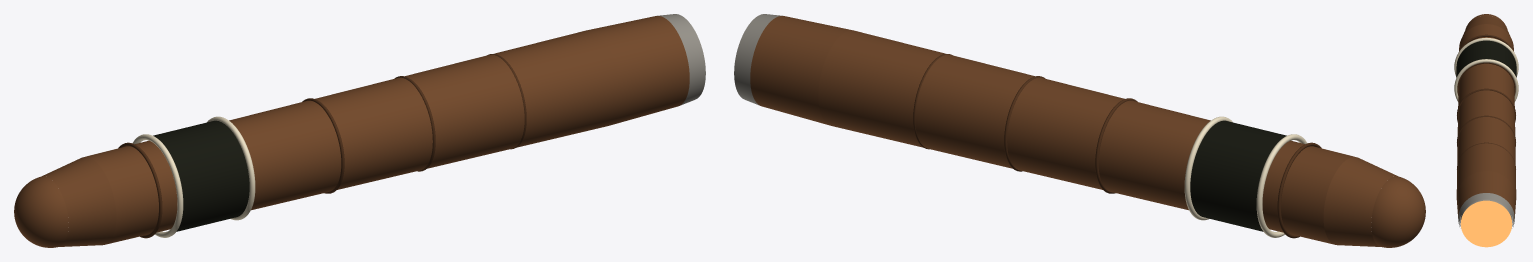
The model's file is cigar.glb.
The picture shows the model from 3 angles, left to right: view 1: azimuth 30°, elevation 25°; view 2: azimuth 150°, elevation 25°; view 3: azimuth 270°, elevation 25°; orthographic projection. The views are drawn at different scales.
Visible parts, largest first — view 1: body, band, foot_taper, shoulder, head_cap, foot_burn, band_edge_top, band_edge_bottom, seam_1, seam_3, seam_4; view 2: body, band, foot_taper, shoulder, head_cap, foot_burn, band_edge_top, band_edge_bottom, seam_1, seam_3, seam_4; view 3: body, lit_foot_glow, foot_taper, band, foot_burn, band_edge_bottom, band_edge_top, shoulder, seam_3, seam_2, seam_4, seam_1 (+3 smaller).
Boxes of the visible parts, bbox=[...] form: body: bbox=[85, 30, 621, 244]; band: bbox=[153, 120, 249, 231]; foot_taper: bbox=[588, 16, 689, 124]; shoulder: bbox=[42, 157, 116, 246]; head_cap: bbox=[14, 176, 68, 247]; foot_burn: bbox=[657, 14, 705, 105]; band_edge_top: bbox=[133, 134, 183, 237]; band_edge_bottom: bbox=[207, 116, 255, 220]; seam_1: bbox=[118, 142, 162, 238]; seam_3: bbox=[302, 98, 344, 193]; seam_4: bbox=[394, 76, 435, 171]; body: bbox=[818, 30, 1354, 244]; band: bbox=[1190, 120, 1286, 231]; foot_taper: bbox=[750, 16, 851, 124]; shoulder: bbox=[1323, 157, 1397, 246]; head_cap: bbox=[1371, 176, 1425, 247]; foot_burn: bbox=[734, 14, 782, 105]; band_edge_top: bbox=[1256, 134, 1306, 237]; band_edge_bottom: bbox=[1184, 116, 1232, 220]; seam_1: bbox=[1277, 142, 1321, 238]; seam_3: bbox=[1095, 98, 1137, 193]; seam_4: bbox=[1004, 76, 1045, 171]; body: bbox=[1456, 24, 1516, 195]; lit_foot_glow: bbox=[1460, 200, 1512, 247]; foot_taper: bbox=[1456, 171, 1516, 218]; band: bbox=[1456, 40, 1516, 77]; foot_burn: bbox=[1458, 193, 1514, 226]; band_edge_bottom: bbox=[1454, 59, 1518, 101]; band_edge_top: bbox=[1454, 37, 1518, 76]; shoulder: bbox=[1462, 16, 1510, 36]; seam_3: bbox=[1457, 88, 1515, 122]; seam_2: bbox=[1457, 62, 1515, 95]; seam_4: bbox=[1457, 115, 1515, 147]; seam_1: bbox=[1459, 34, 1513, 51].
Size of the model in its own units: 0.1535 by 0.0212 by 0.0212.
